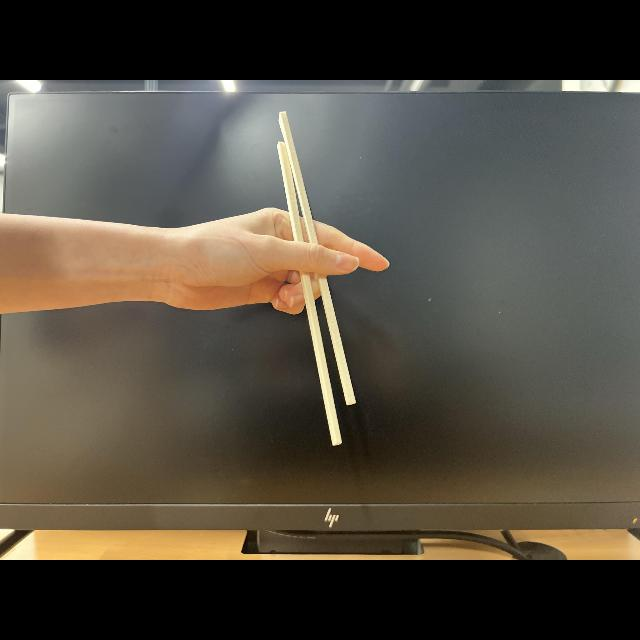stick: (258, 111, 372, 446)
